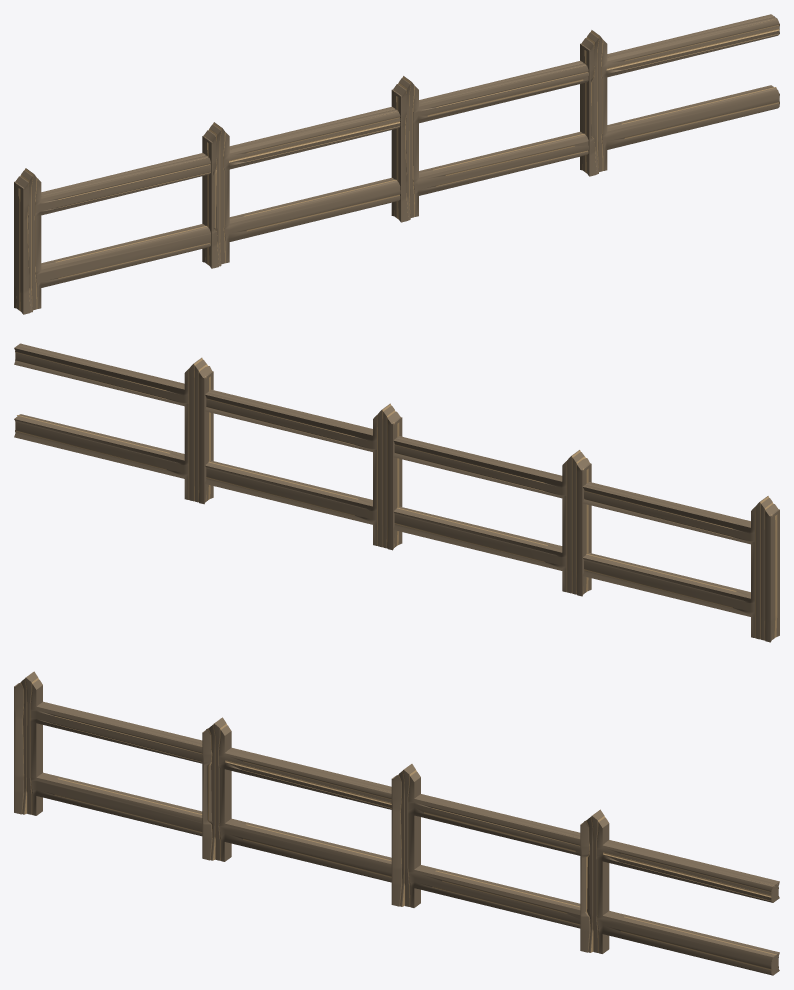
Rendered from FenceforHouses.fbx.
The picture shows the model from 3 angles, top to bottom: view 1: azimuth 30°, elevation 25°; view 2: azimuth 150°, elevation 25°; view 3: azimuth 330°, elevation 25°; orthographic projection.
Parts seen in each view (by area): view 1: pCube199; view 2: pCube199; view 3: pCube199.
Part boxes in pixels (<box>): pCube199: <box>14,14,779,314</box>; pCube199: <box>14,343,779,642</box>; pCube199: <box>14,671,779,975</box>.
Size of the model in its own units: 13.57 by 2.36 by 0.2996.
